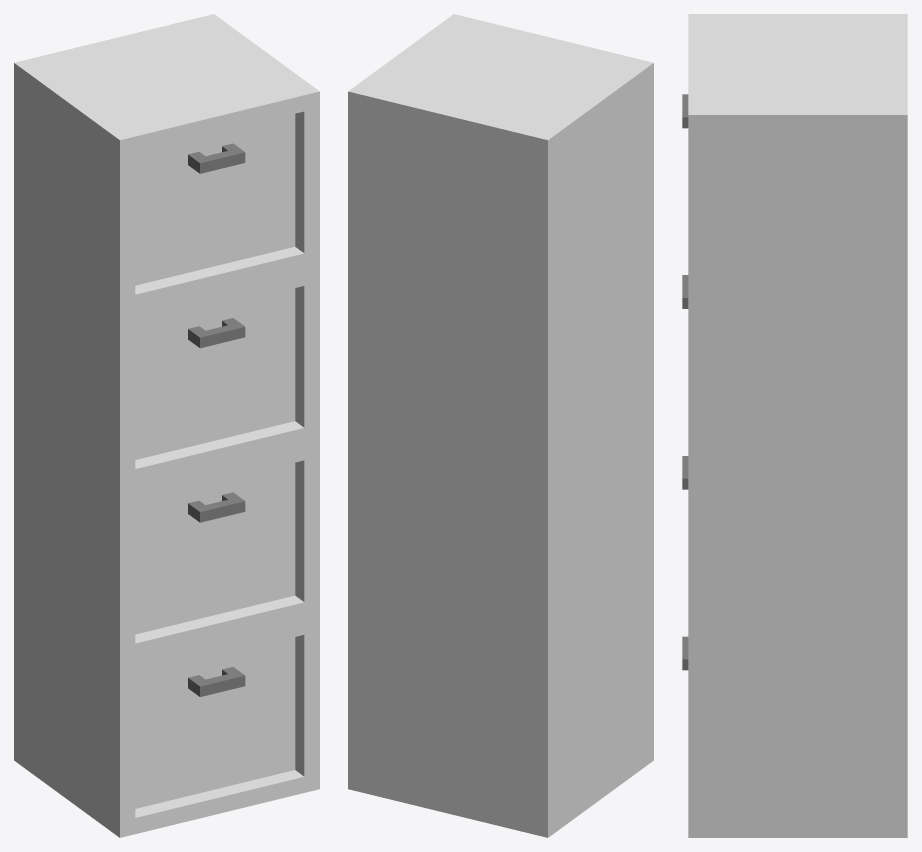
The model's file is FileCabinet.fbx.
The picture shows the model from 3 angles, left to right: view 1: azimuth 30°, elevation 25°; view 2: azimuth 150°, elevation 25°; view 3: azimuth 270°, elevation 25°; orthographic projection. The views are drawn at different scales.
Parts seen in each view (by area): view 1: Cabinet; view 2: Cabinet; view 3: Cabinet.
Part boxes in pixels (x1,y1,x2,y2): Cabinet: [14, 14, 319, 837]; Cabinet: [348, 14, 653, 837]; Cabinet: [682, 14, 907, 837].
Size of the model in its own units: 110 by 368 by 104.
